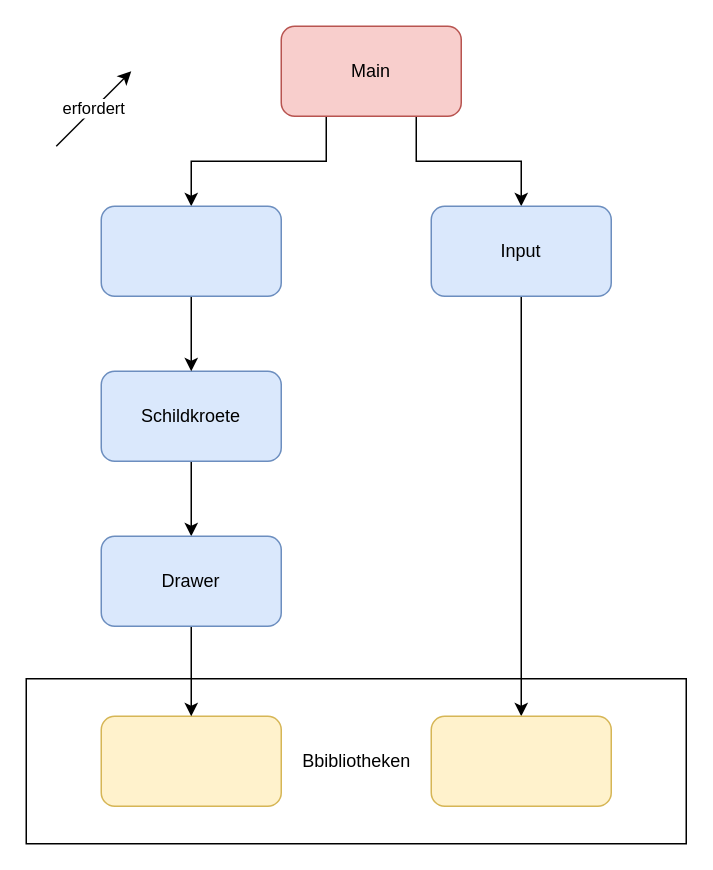
The diagram is 713 pixels wide and 870 high, and some of its shapes have lost their labels. Each missing label, with the centre of its shape:
Flanagan: (520,760)
Monsterkurven: (190,250)
SdtDraw: (190,760)
